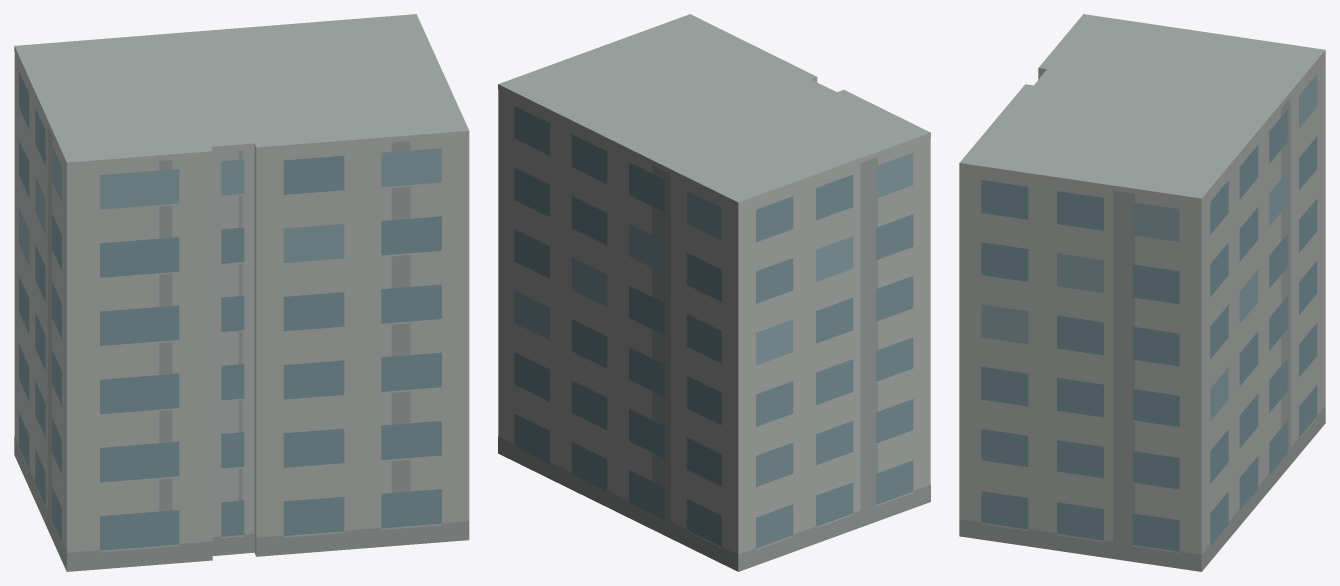
Rendered from survey-upis-32709528.glb.
3 views of the same model, side by side, from view 1: azimuth 30°, elevation 25°; view 2: azimuth 150°, elevation 25°; view 3: azimuth 270°, elevation 25° (orthographic). The views are drawn at different scales.
Visible parts, largest first — view 1: survey-upis-32709528.tmp; view 2: survey-upis-32709528.tmp; view 3: survey-upis-32709528.tmp.
Boxes of the visible parts, x1,y1,x2,y2 form: survey-upis-32709528.tmp: (14, 14, 469, 571); survey-upis-32709528.tmp: (498, 14, 930, 571); survey-upis-32709528.tmp: (959, 14, 1325, 571).
Bounding box in the file's own units: 18.72 × 17.65 × 15.7.
